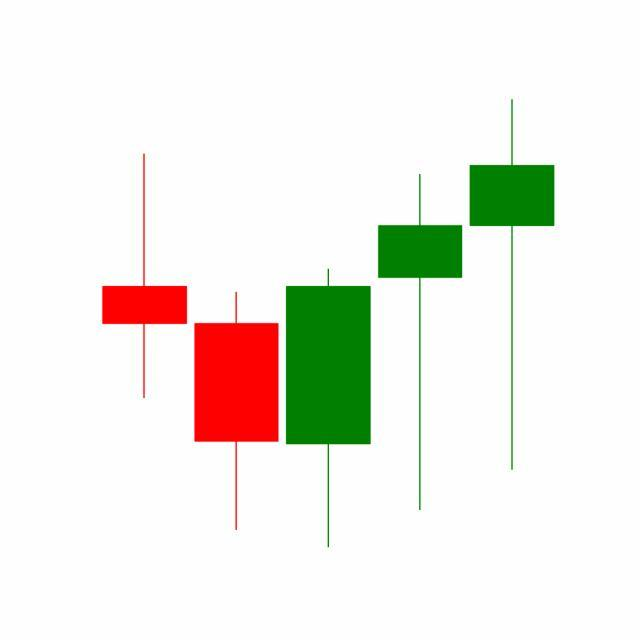Three Outside Up-Down: (190, 170, 467, 549)
